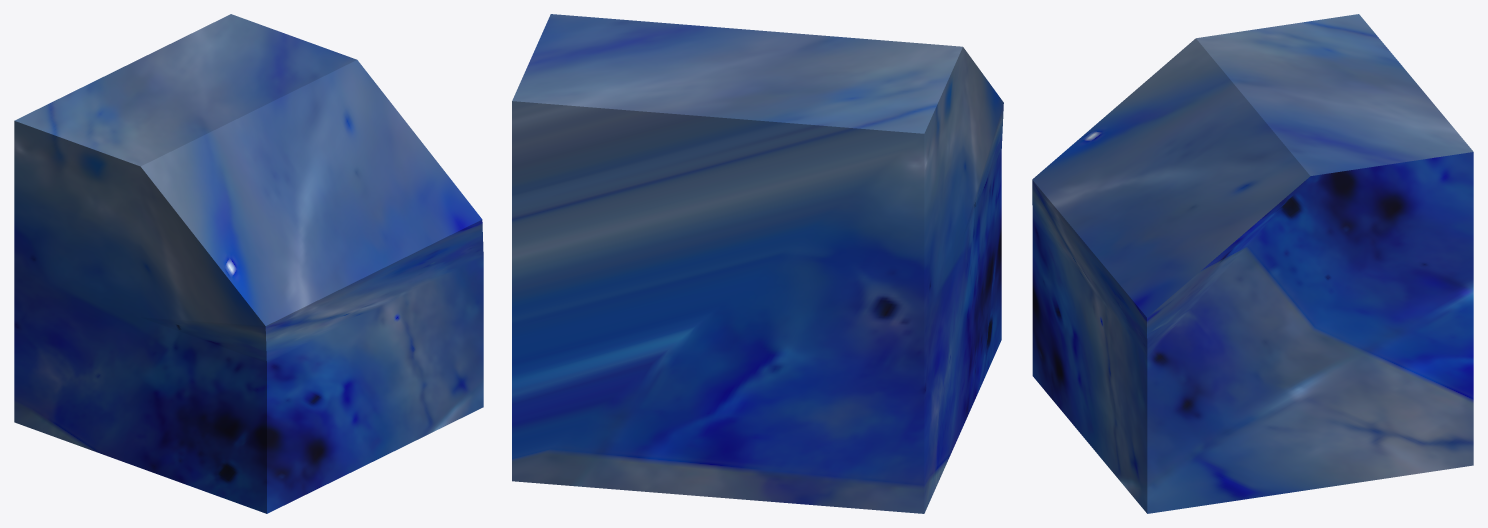
The model's file is BlueBlocks_4.gltf.
The picture shows the model from 3 angles, left to right: view 1: azimuth 30°, elevation 25°; view 2: azimuth 150°, elevation 25°; view 3: azimuth 270°, elevation 25°; orthographic projection. The views are drawn at different scales.
Parts seen in each view (by area): view 1: BlueBlocks_4; view 2: BlueBlocks_4; view 3: BlueBlocks_4.
Part boxes in pixels (<box>): BlueBlocks_4: <box>14,14,483,513</box>; BlueBlocks_4: <box>512,14,1003,513</box>; BlueBlocks_4: <box>1032,14,1473,513</box>.
Bounding box in the file's own units: 9.14 × 7.17 × 9.15.
Materials: 1 (1 with a texture image).
